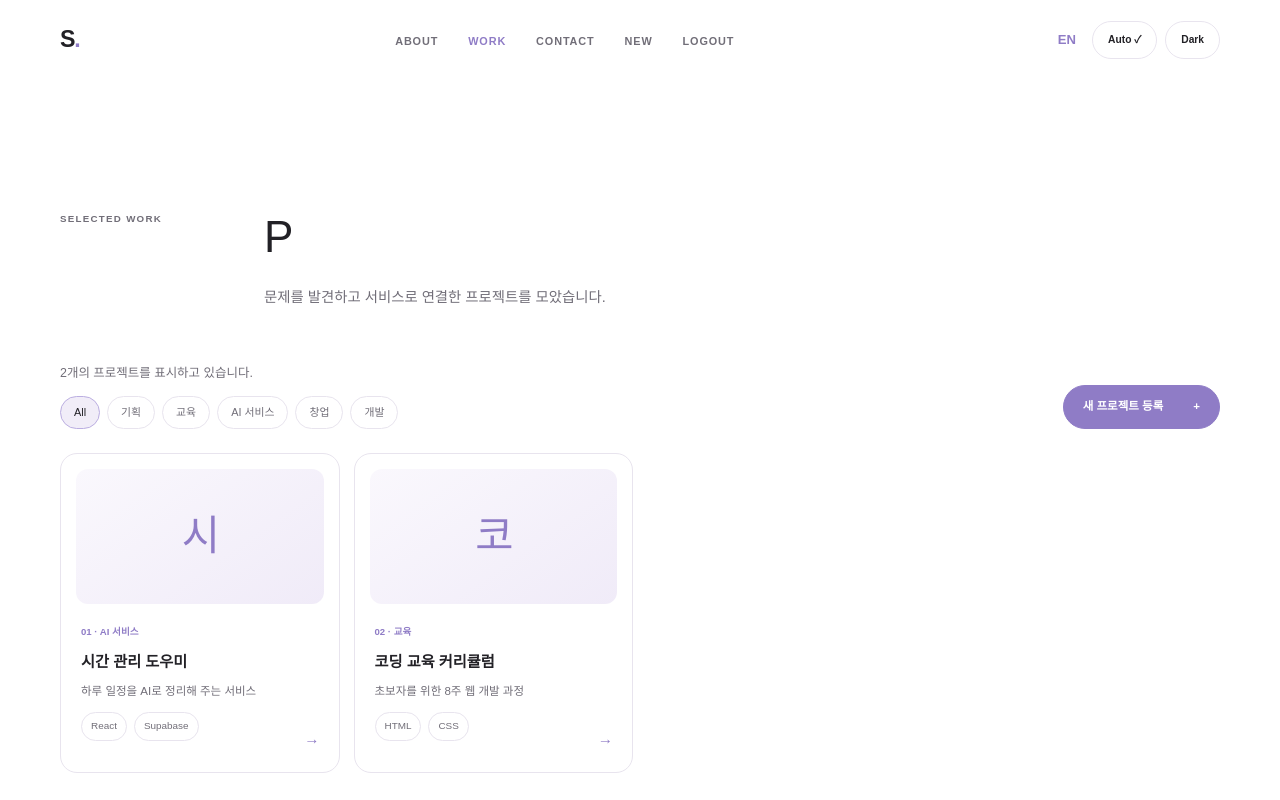
Scenario: 관리자 (로그인함) › 헤더에 New·Logout이 보이고, 로그아웃하면 관리 버튼이 사라진다
Expected: the link "New" is shown, left=625, top=35, right=653, bottom=47
Expected: the link "새 프로젝트 등록 +" is shown, left=1063, top=385, right=1220, bottom=429
Click the button "Logout".
click(708, 42)  # box left=682, top=32, right=734, bottom=51
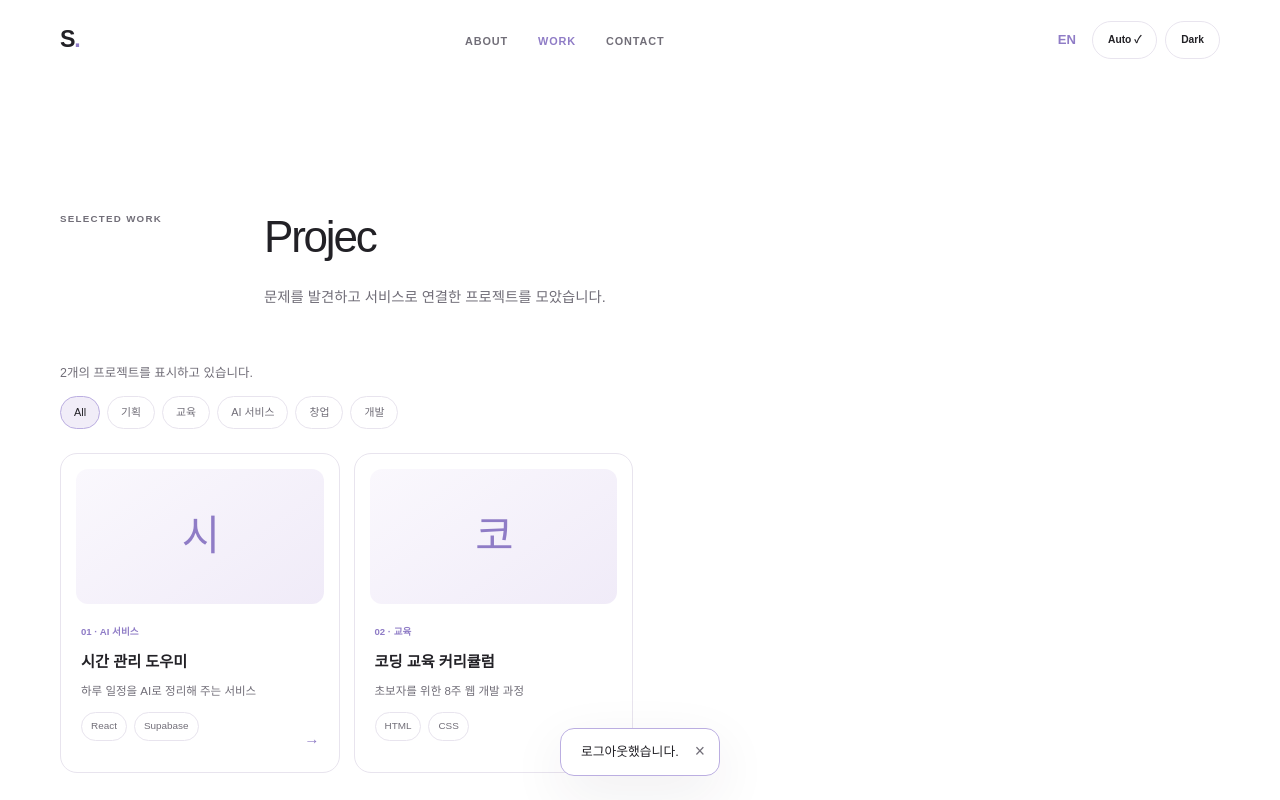
Now the text "로그아웃했습니다." is shown, box left=581, top=741, right=679, bottom=763
Now the link "New" is gone
Now the link "새 프로젝트 등록" is gone
